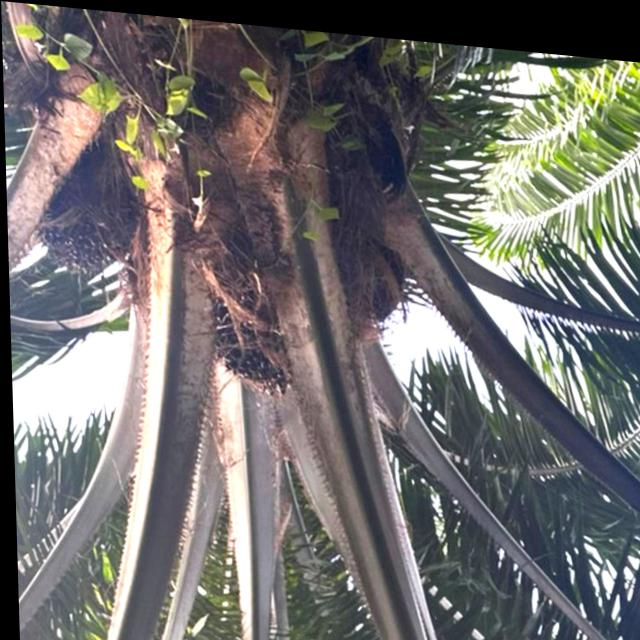almost: (203, 240, 334, 393)
